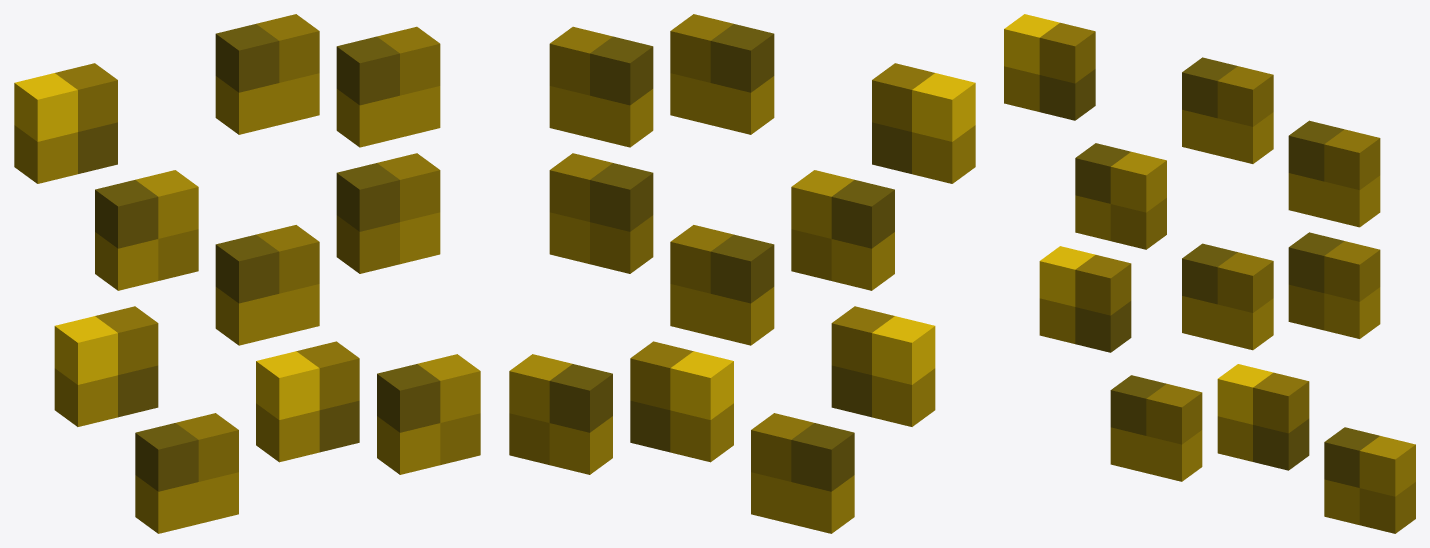
Rendered from Corn Seeds.glb.
The picture shows the model from 3 angles, left to right: view 1: azimuth 30°, elevation 25°; view 2: azimuth 150°, elevation 25°; view 3: azimuth 330°, elevation 25°; orthographic projection. The views are drawn at different scales.
Visible parts, largest first — view 1: Untitled; view 2: Untitled; view 3: Untitled.
Part boxes in pixels (x1,y1,x2,y2): Untitled: (14,14,480,533); Untitled: (509,14,975,533); Untitled: (1004,14,1415,533).
Bounding box in the file's own units: 5.5 × 5.5 × 0.5.
1 material, 1 textured.
